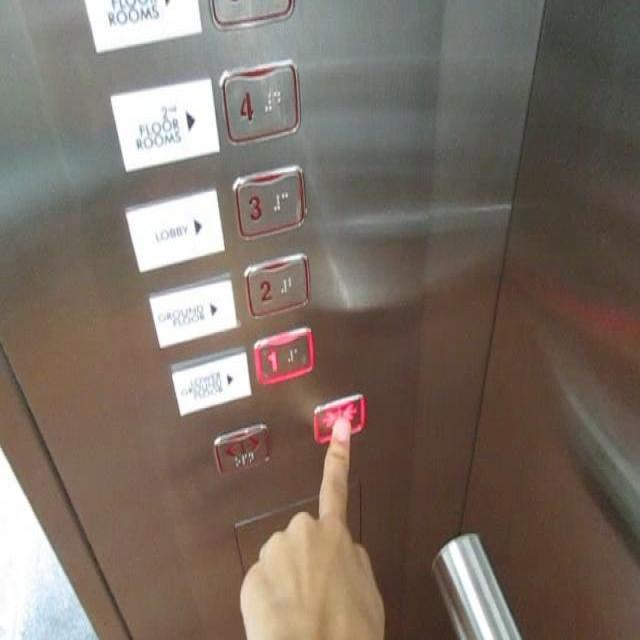1: (252, 324, 315, 387)
2: (243, 252, 310, 317)
3: (233, 163, 305, 240)
4: (218, 59, 300, 142)
close: (312, 391, 365, 446)
open: (210, 423, 269, 480)
